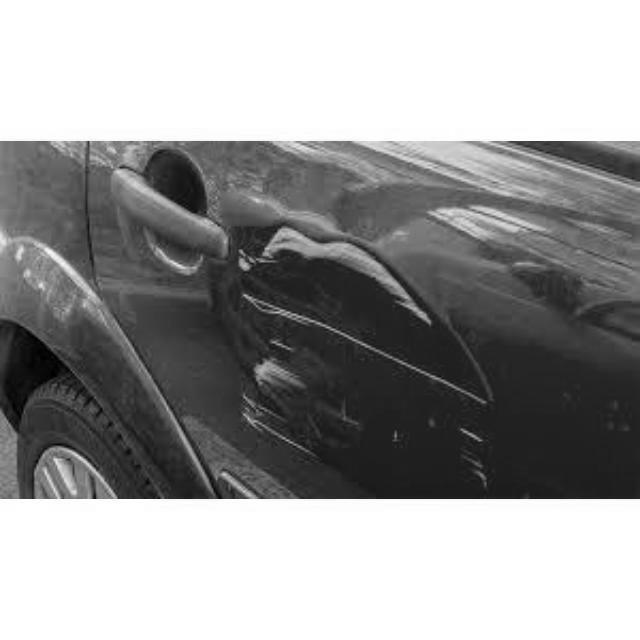doorouter-dent: (167, 142, 593, 455)
